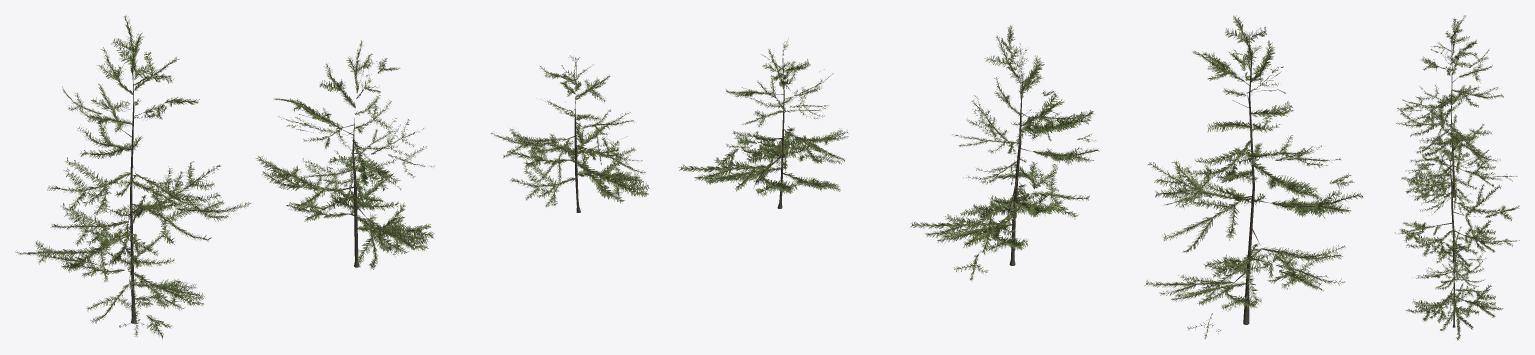
Rendered from fir_sapling.glb.
3 views of the same model, side by side, from view 1: azimuth 30°, elevation 25°; view 2: azimuth 150°, elevation 25°; view 3: azimuth 270°, elevation 25° (orthographic). The views are drawn at different scales.
Visible parts, largest first — view 1: fir_sapling_a, fir_sapling_b, fir_sapling_c; view 2: fir_sapling_a, fir_sapling_b, fir_sapling_c; view 3: fir_sapling_a, fir_sapling_b, fir_sapling_c.
Part boxes in pixels (x1,y1,x2,y2): fir_sapling_a: (15,15,250,339); fir_sapling_b: (255,40,434,269); fir_sapling_c: (490,55,649,212); fir_sapling_a: (1145,15,1363,338); fir_sapling_b: (910,25,1099,280); fir_sapling_c: (678,37,848,208); fir_sapling_a: (1396,15,1517,209); fir_sapling_b: (1395,128,1519,275); fir_sapling_c: (1405,226,1503,340).
Size of the model in its own units: 2.74 by 1.3 by 0.8166.
Materials: 2 (2 with a texture image).
